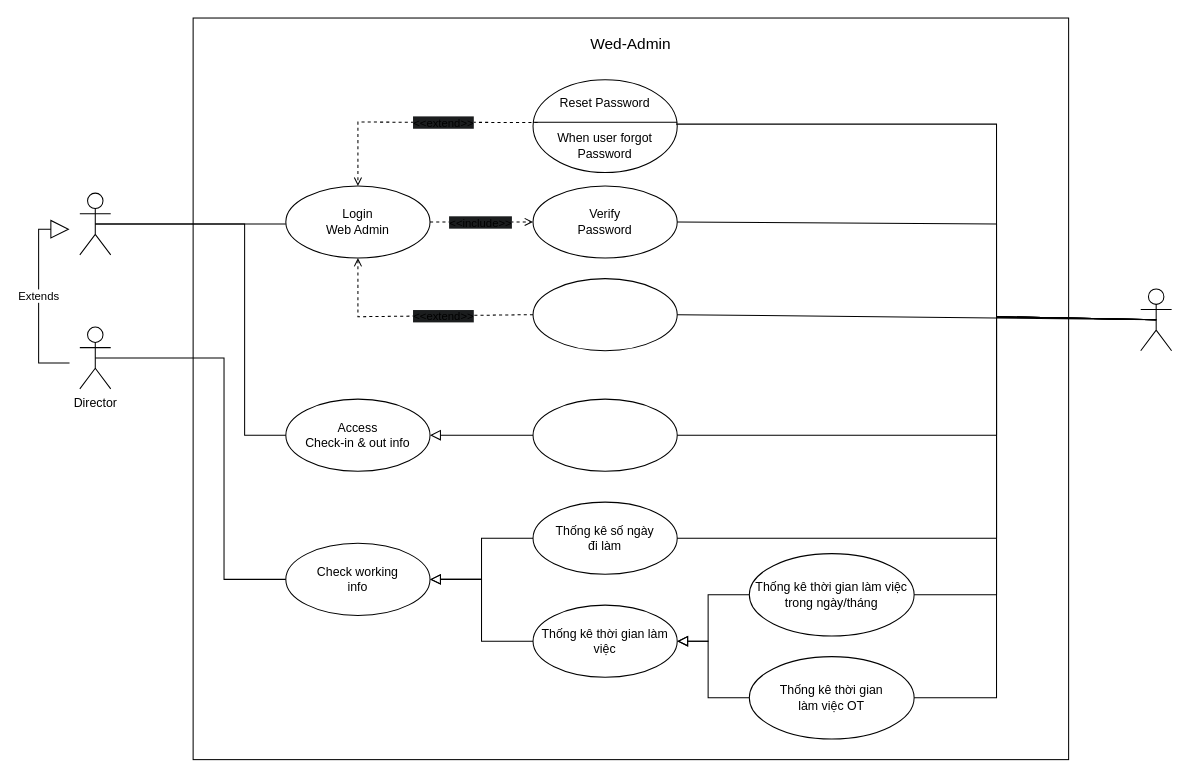
Some shapes in this 1192 by 778 pixel diagram are drawn without their labels. Each missing label, with the centre of its shape:
"Chấm công hộ" goes at point 604,434.
"Display Login Error" goes at point 604,314.
"Manager" goes at point 95,223.
"Server" goes at point 1156,319.
